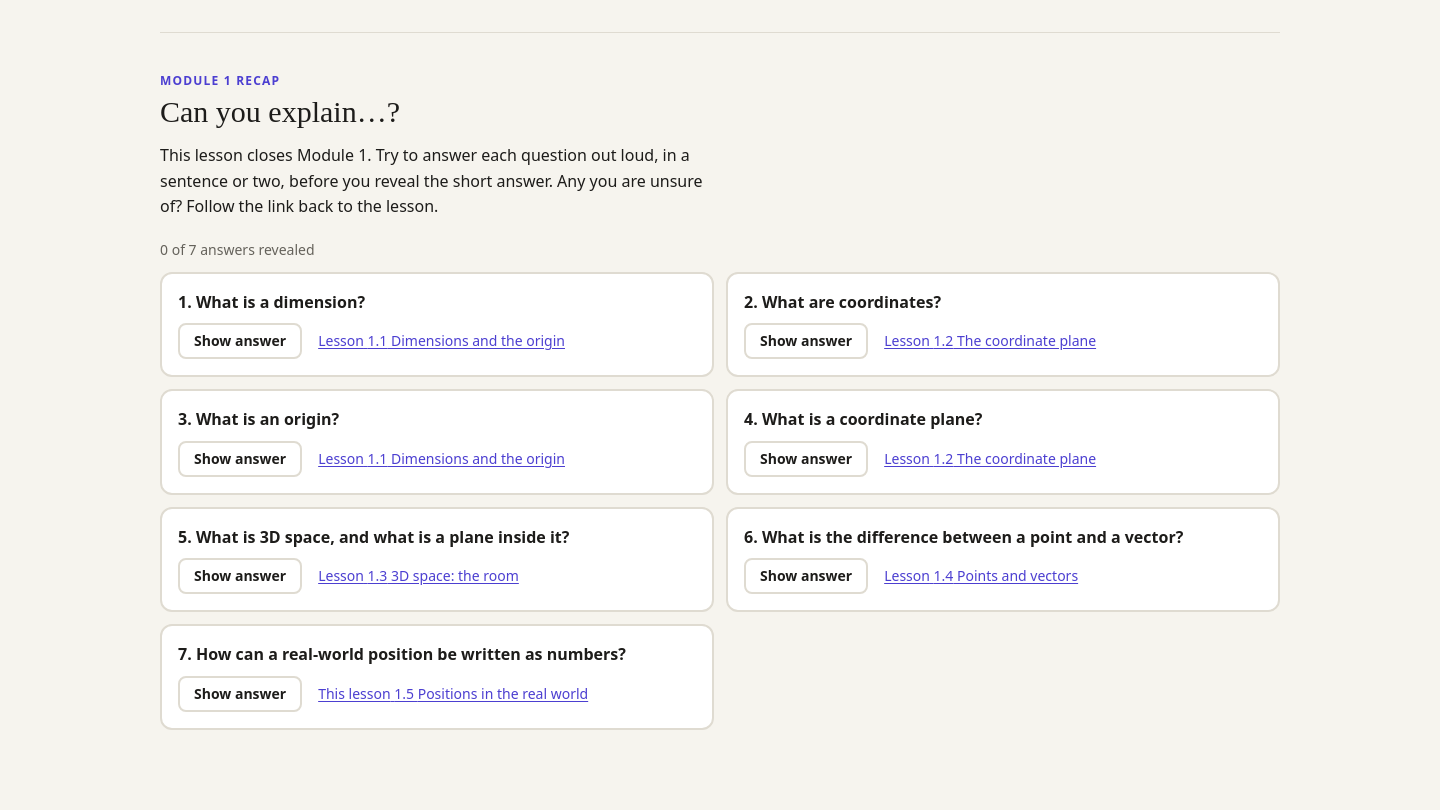
Test case: real-world positions lesson › reveals recap answers and links to each lesson
(page scrolled)
Click the 6th button "Show answer" at [806, 576], box x1=744 y1=558 x2=868 y2=594
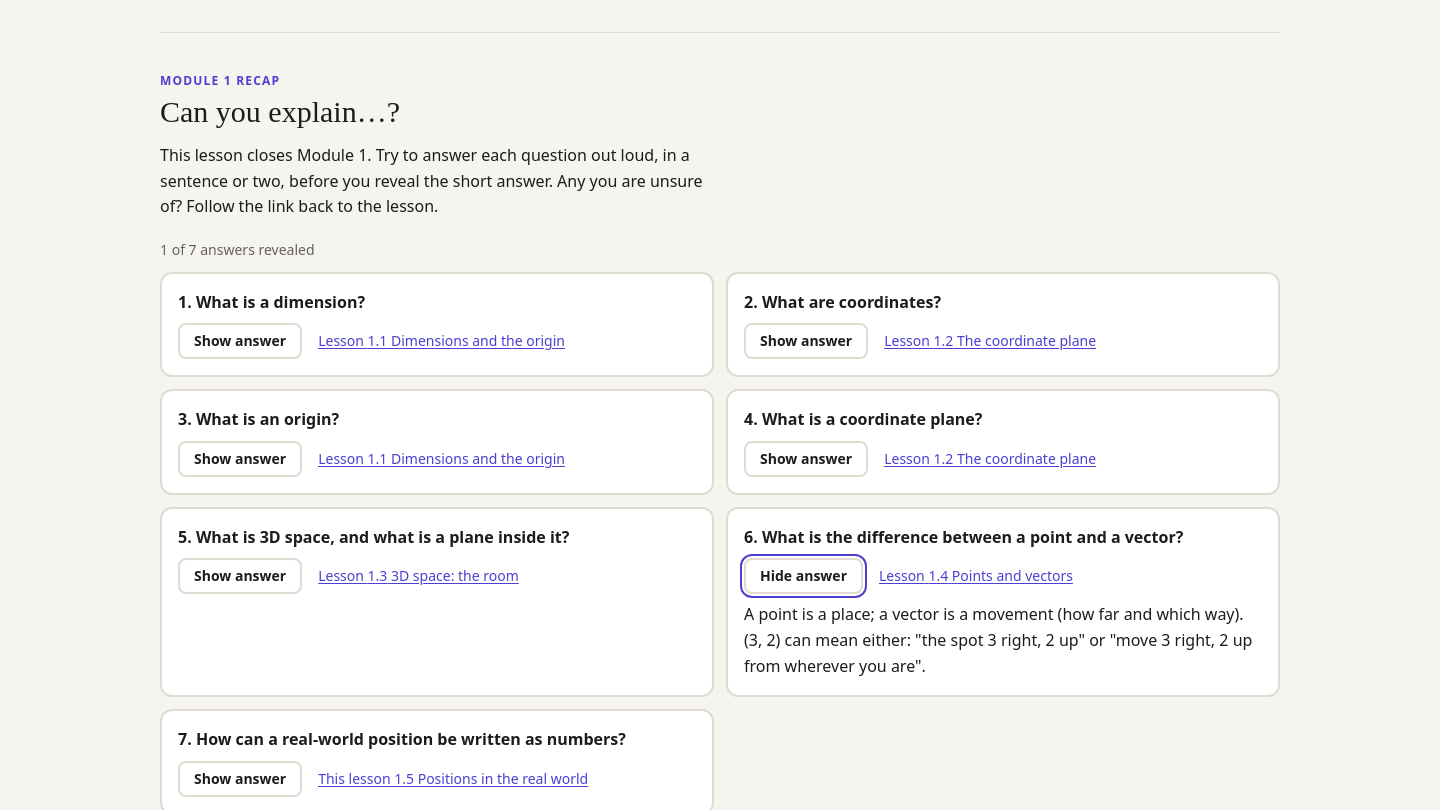
Now the button named "Show answer" is expanded, box x1=744 y1=558 x2=863 y2=594
Now the text "1 of 7 answers revealed" is shown, box x1=160 y1=240 x2=315 y2=259
